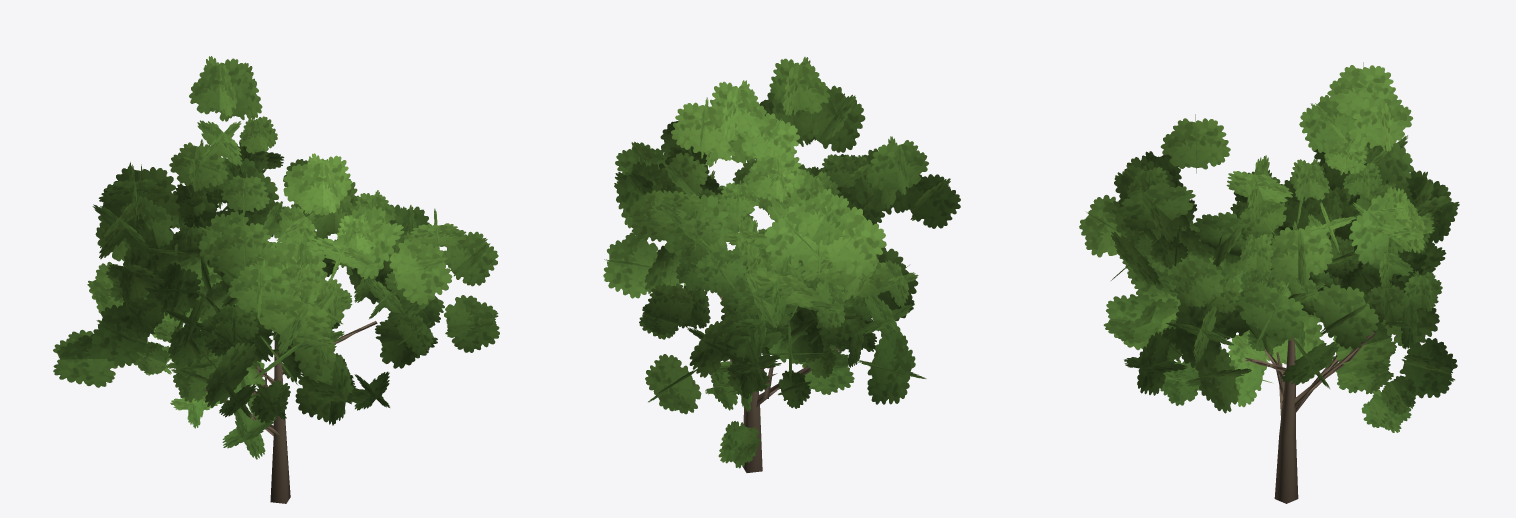
The model's file is roble-muybajo.glb.
3 renders of one model, left to right at view 1: azimuth 30°, elevation 25°; view 2: azimuth 150°, elevation 25°; view 3: azimuth 270°, elevation 25°, orthographic.
Visible parts, largest first — view 1: roble; view 2: roble; view 3: roble.
Boxes of the visible parts, <box> form: roble: <box>53,56,499,503</box>; roble: <box>603,57,960,472</box>; roble: <box>1079,62,1459,503</box>.
Bounding box in the file's own units: 18.44 × 17.64 × 16.67.
2 materials, 1 textured.
